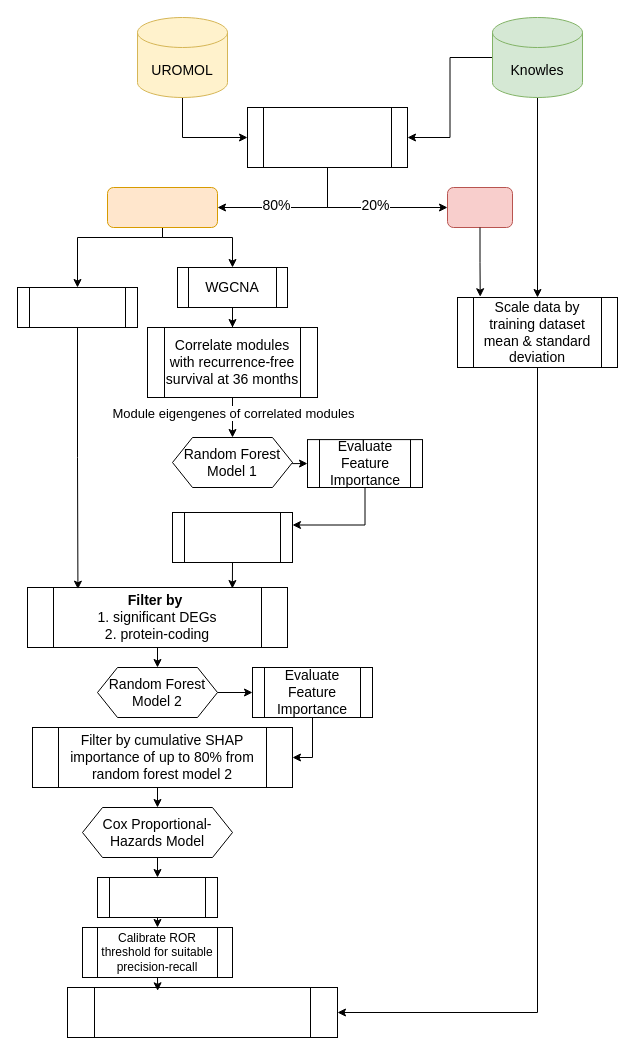
Some shapes in this 635 by 1055 pixel diagram are drawn without their labels. Here are the shapes that lost their labels. From the top down, the centre of each, then its label:
At (x=327, y=137): "Find common genes with Knowles microarray".
At (x=162, y=207): "Train".
At (x=479, y=207): "Test".
At (x=77, y=307): "DE analysis".
At (x=232, y=537): "Downselect for important modules".
At (x=157, y=897): "ROR score calculation".
At (x=202, y=1012): "Predict recurrence-free survival at 36 months".
